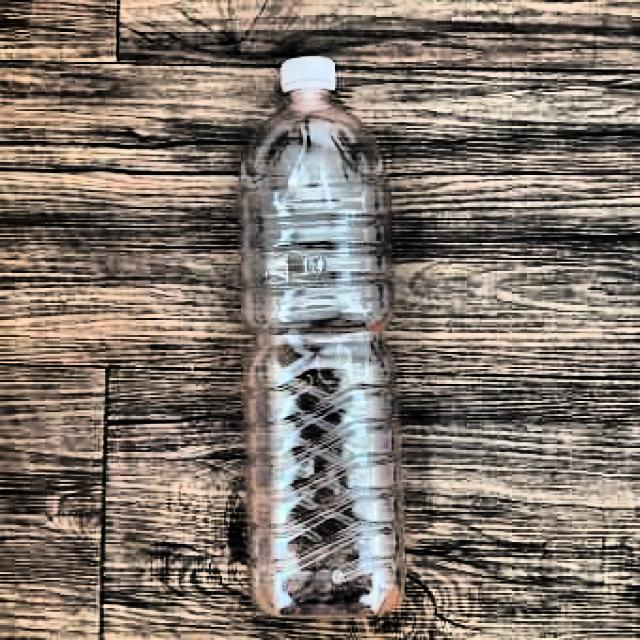Bottles: (218, 50, 434, 618)
